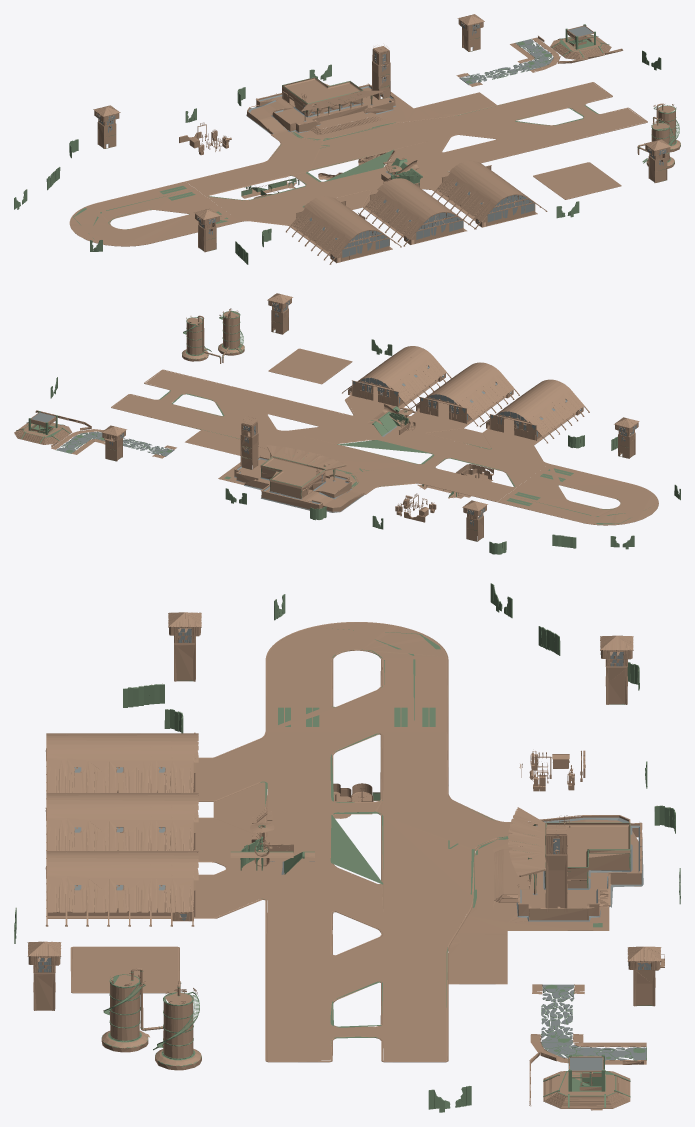
The model's file is airfield_1-mid.glb.
3 renders of one model, top to bottom at view 1: azimuth 30°, elevation 25°; view 2: azimuth 150°, elevation 25°; view 3: azimuth 270°, elevation 25°, orthographic. The views are drawn at different scales.
Parts seen in each view (by area): view 1: supermarket_counter_a_corner, watch_tower_b_LOD0; view 2: supermarket_counter_a_corner, watch_tower_b_LOD0; view 3: supermarket_counter_a_corner, watch_tower_b_LOD0.
Part boxes in pixels (x1,y1,x2,y2): supermarket_counter_a_corner: [69, 14, 680, 264]; watch_tower_b_LOD0: [14, 22, 680, 264]; supermarket_counter_a_corner: [14, 293, 658, 541]; watch_tower_b_LOD0: [16, 300, 680, 554]; supermarket_counter_a_corner: [16, 599, 670, 1110]; watch_tower_b_LOD0: [14, 583, 680, 1112].
Bounding box in the file's own units: 343 × 46.44 × 190.
